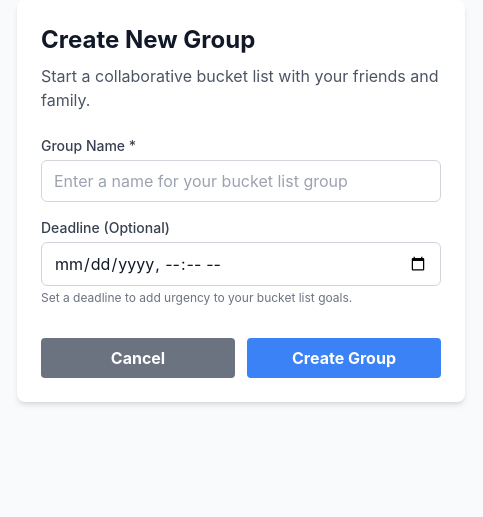
Scenario: CreateGroupForm › handles API errors gracefully
Type "Test Group" into the field labelled "Group Name *" at (241, 181), box [41, 160, 441, 202]
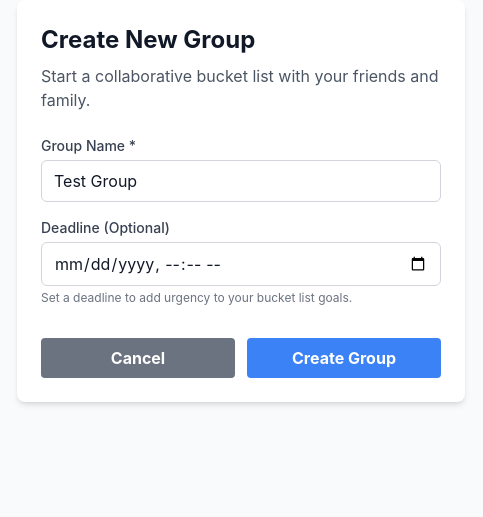
Click the button "Create Group" at (344, 358), box [247, 338, 441, 378]
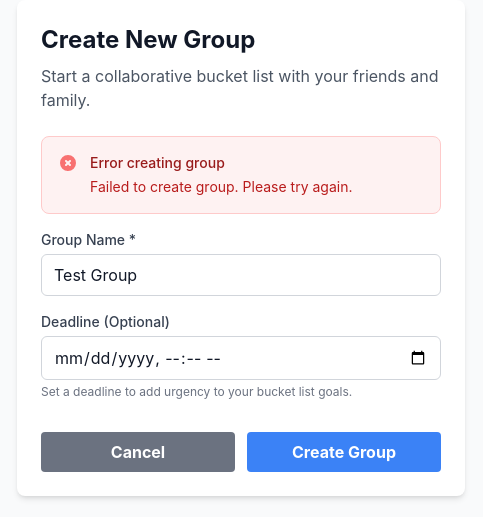
expect the text "Failed to create group. Please try again." is shown: met, box [90, 177, 352, 197]
